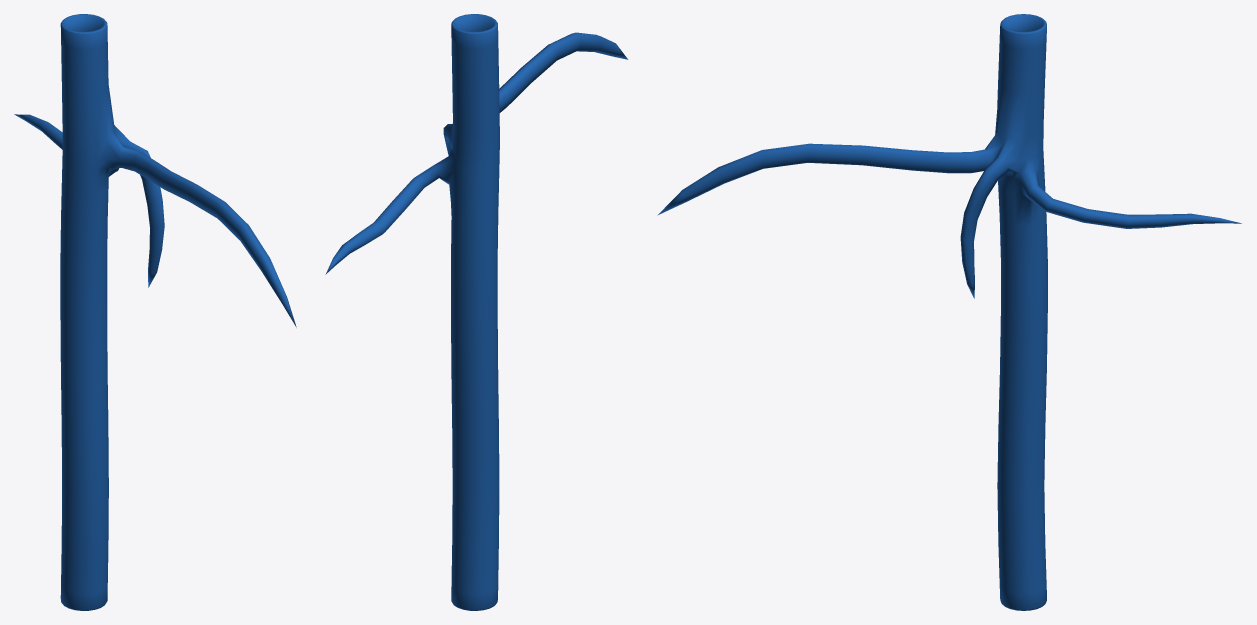
The model's file is blueVein.fbx.
3 views of the same model, side by side, from view 1: azimuth 30°, elevation 25°; view 2: azimuth 150°, elevation 25°; view 3: azimuth 270°, elevation 25° (orthographic).
Visible parts, largest first — view 1: pPipe1; view 2: pPipe1; view 3: pPipe1.
Boxes of the visible parts, x1,y1,x2,y2 form: pPipe1: (14,14,296,610); pPipe1: (325,14,628,610); pPipe1: (657,14,1241,610).
Size of the model in its own units: 0.6158 by 4.75 by 4.36.
